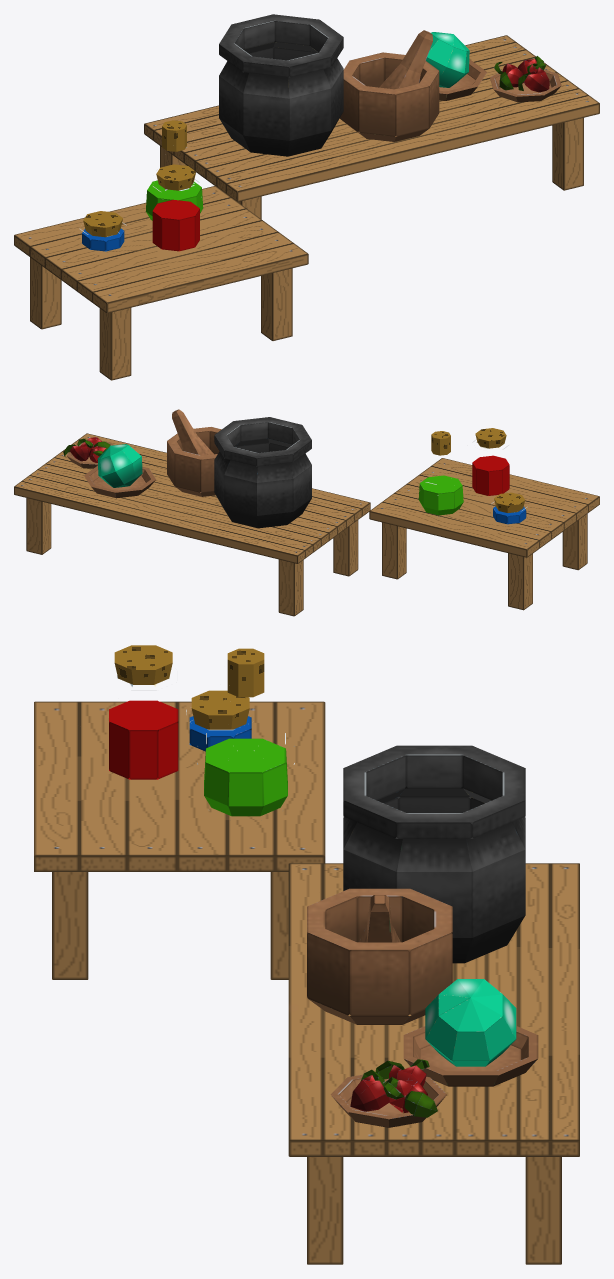
File: Alchemy Table.fbx
3 renders of one model, top to bottom at view 1: azimuth 30°, elevation 25°; view 2: azimuth 150°, elevation 25°; view 3: azimuth 270°, elevation 25°, orthographic. The views are drawn at different scales.
Visible parts, largest first — view 1: Alchemy Table; view 2: Alchemy Table; view 3: Alchemy Table.
Boxes of the visible parts, x1,y1,x2,y2 form: Alchemy Table: [14, 14, 599, 380]; Alchemy Table: [14, 409, 599, 616]; Alchemy Table: [34, 645, 579, 1264].
Bounding box in the file's own units: 356 × 106 × 188.
7 materials, 7 textured.
